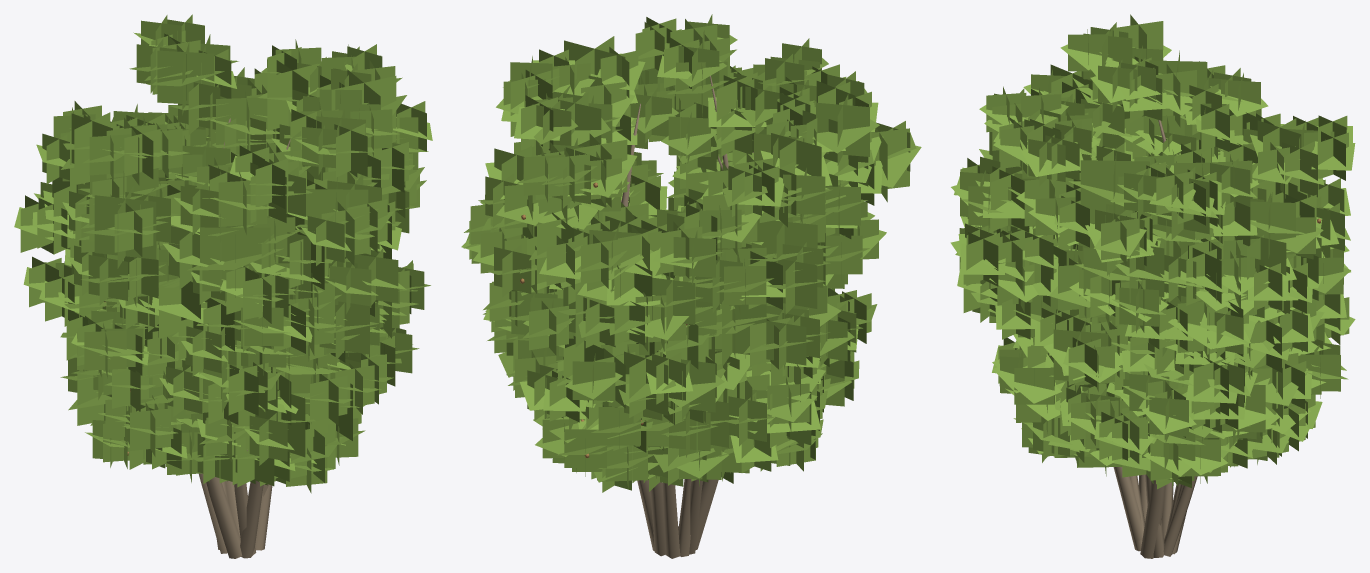
Rendered from noisetier_4_jeu.glb.
3 views of the same model, side by side, from view 1: azimuth 30°, elevation 25°; view 2: azimuth 150°, elevation 25°; view 3: azimuth 270°, elevation 25° (orthographic). The views are drawn at different scales.
Visible parts, largest first — view 1: Noisetier_T4_Leger; view 2: Noisetier_T4_Leger; view 3: Noisetier_T4_Leger.
Boxes of the visible parts, x1,y1,x2,y2 form: Noisetier_T4_Leger: (14, 14, 432, 558); Noisetier_T4_Leger: (461, 14, 921, 558); Noisetier_T4_Leger: (950, 14, 1355, 558).
Size of the model in its own units: 5.21 by 6.5 by 5.26.
